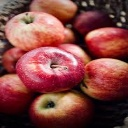apple: (28, 88, 98, 128)
